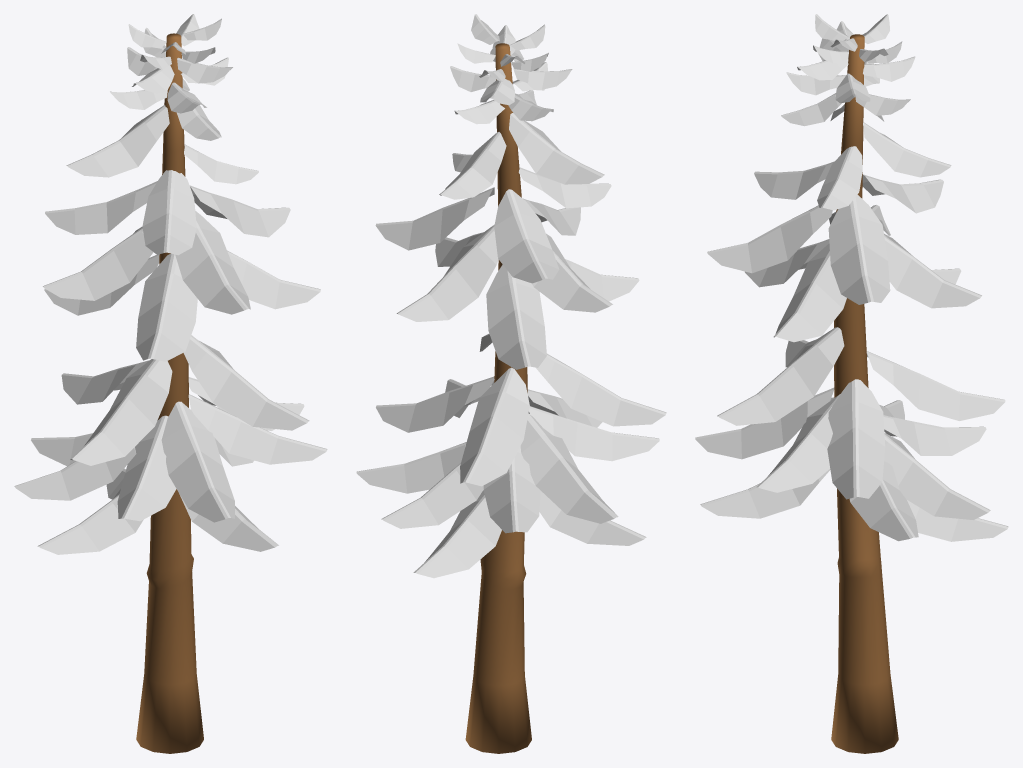
File: Tree_02.glb
3 views of the same model, side by side, from view 1: azimuth 30°, elevation 25°; view 2: azimuth 150°, elevation 25°; view 3: azimuth 270°, elevation 25° (orthographic). The views are drawn at different scales.
Parts seen in each view (by area): view 1: Plane.016, Cylinder.087; view 2: Plane.016, Cylinder.087; view 3: Plane.016, Cylinder.087.
Part boxes in pixels (<box>): Plane.016: <box>14,14,327,554</box>; Cylinder.087: <box>136,33,203,753</box>; Plane.016: <box>356,14,666,578</box>; Cylinder.087: <box>465,43,531,753</box>; Plane.016: <box>695,14,1008,541</box>; Cylinder.087: <box>831,34,898,753</box>.
Bounding box in the file's own units: 5.26 × 13.45 × 5.32.
